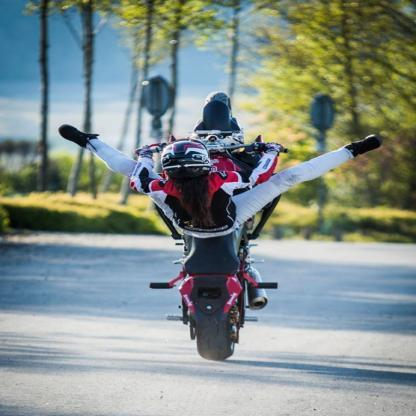helmet: (161, 139, 213, 181)
